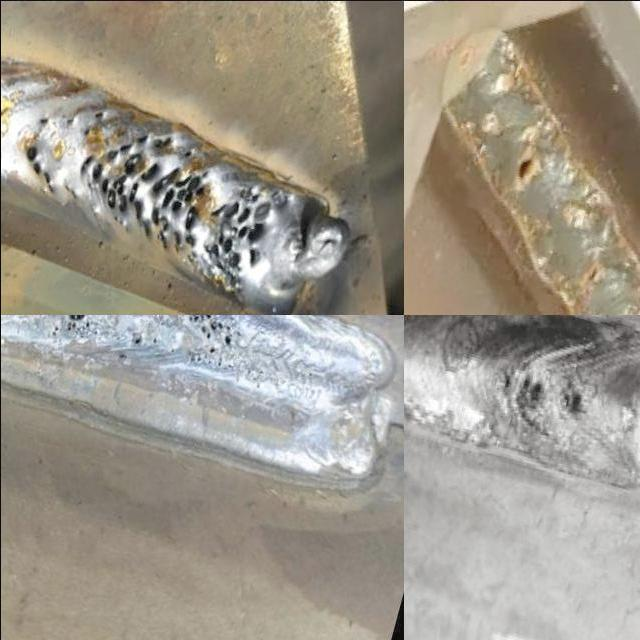defect: (82, 130, 209, 259), (198, 184, 277, 290), (498, 357, 545, 432), (170, 314, 238, 363), (15, 137, 58, 203), (554, 371, 589, 430), (514, 156, 535, 188), (580, 264, 600, 293), (126, 327, 147, 354), (64, 182, 83, 205), (36, 109, 54, 131), (90, 105, 105, 121), (80, 126, 90, 142), (62, 113, 73, 126)
